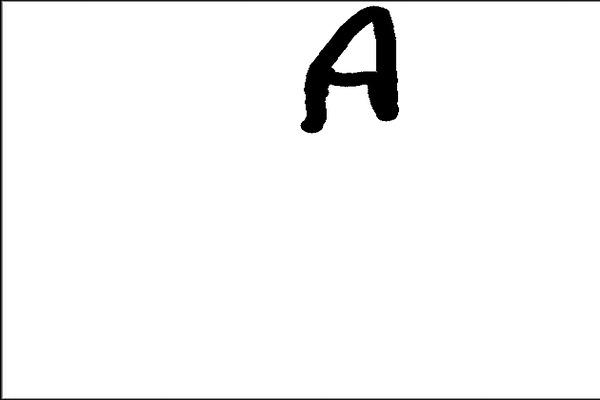A: (286, 4, 423, 137)
